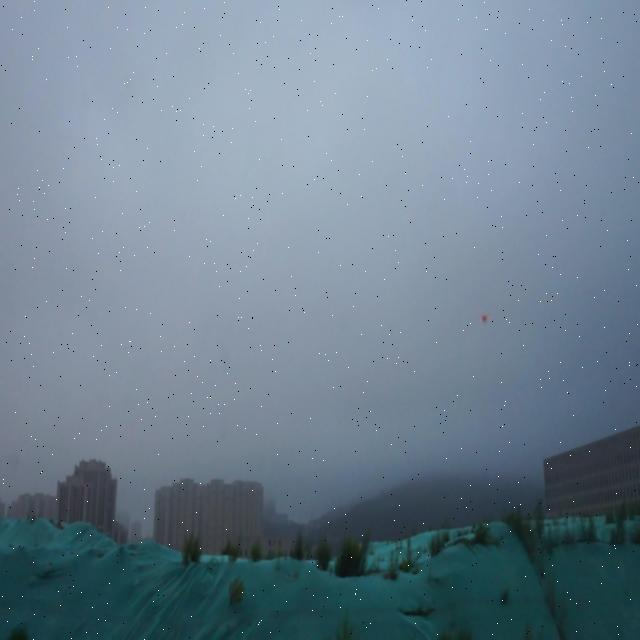UAV: (480, 313, 490, 322)
